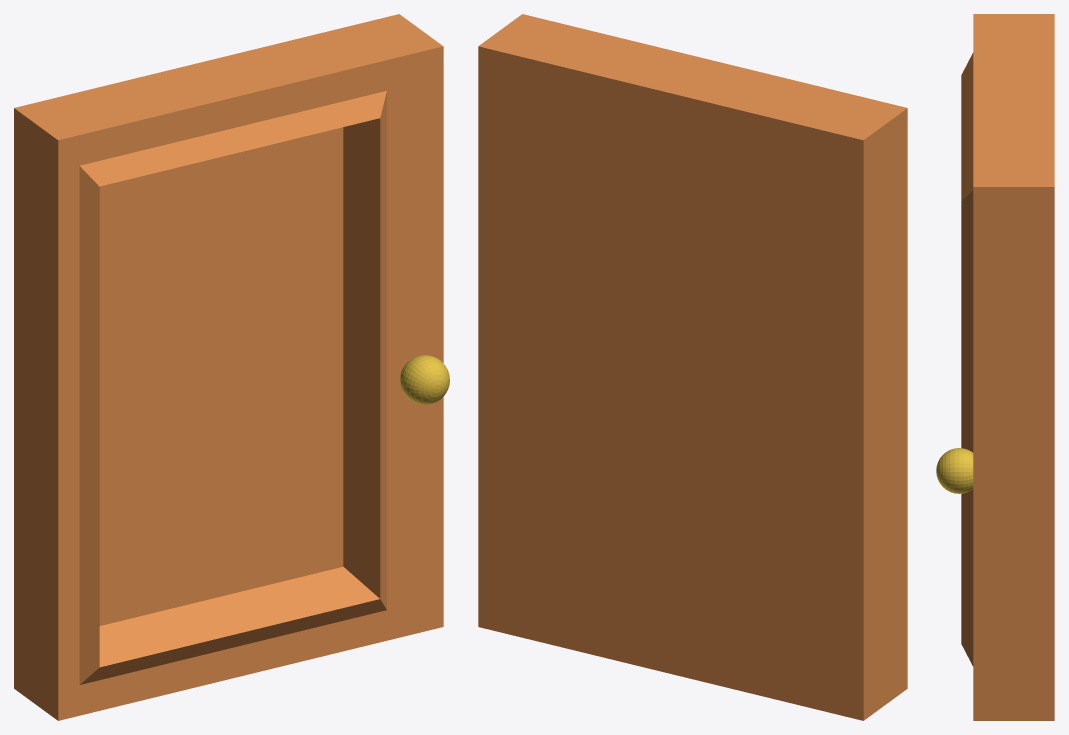
The model's file is door.glb.
3 renders of one model, left to right at view 1: azimuth 30°, elevation 25°; view 2: azimuth 150°, elevation 25°; view 3: azimuth 270°, elevation 25°, orthographic. The views are drawn at different scales.
Visible parts, largest first — view 1: Cube; view 2: Cube; view 3: Cube.
Boxes of the visible parts, bbox=[...] form: Cube: bbox=[14, 14, 449, 720]; Cube: bbox=[478, 14, 907, 720]; Cube: bbox=[936, 14, 1054, 720].
Bounding box in the file's own units: 2.07 × 2.98 × 0.5987.
